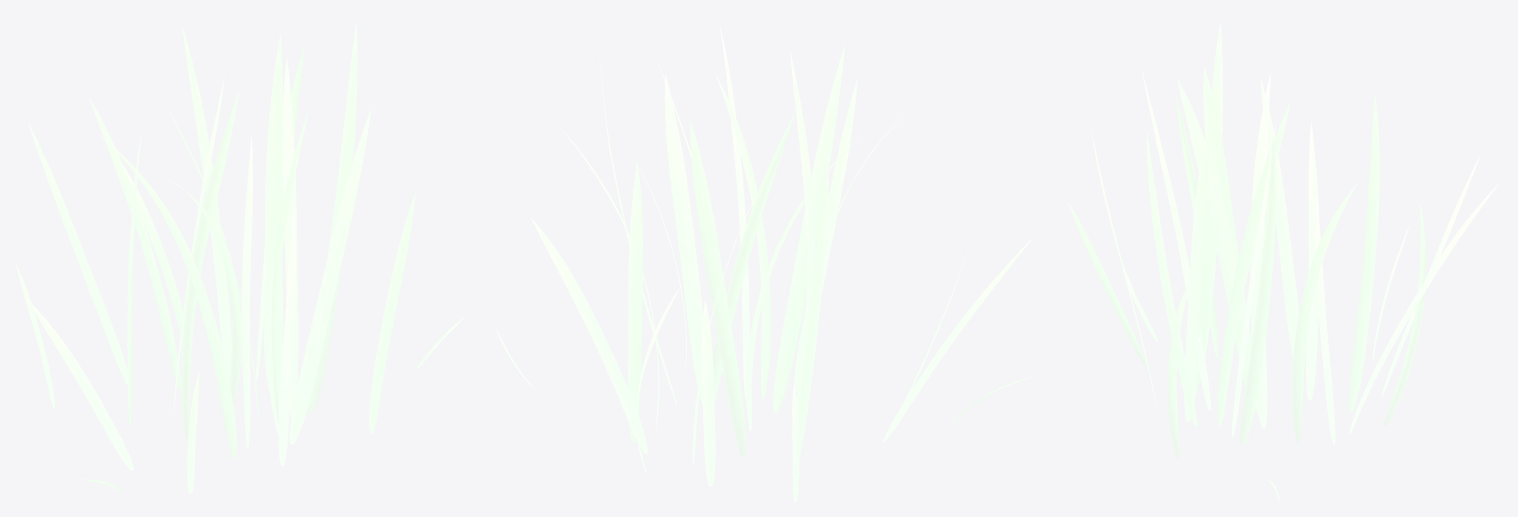
The picture shows the model from 3 angles, left to right: view 1: azimuth 30°, elevation 25°; view 2: azimuth 150°, elevation 25°; view 3: azimuth 270°, elevation 25°; orthographic projection. The views are drawn at different scales.
Parts seen in each view (by area): view 1: SM_Bullrush_04_LOD0; view 2: SM_Bullrush_04_LOD0; view 3: SM_Bullrush_04_LOD0.
Part boxes in pixels (bbox=[...]): SM_Bullrush_04_LOD0: bbox=[15, 23, 464, 501]; SM_Bullrush_04_LOD0: bbox=[496, 24, 1033, 501]; SM_Bullrush_04_LOD0: bbox=[1068, 22, 1498, 502].
Bounding box in the file's own units: 1.11 × 0.8143 × 0.9159.
Materials: 1 (1 with a texture image).
